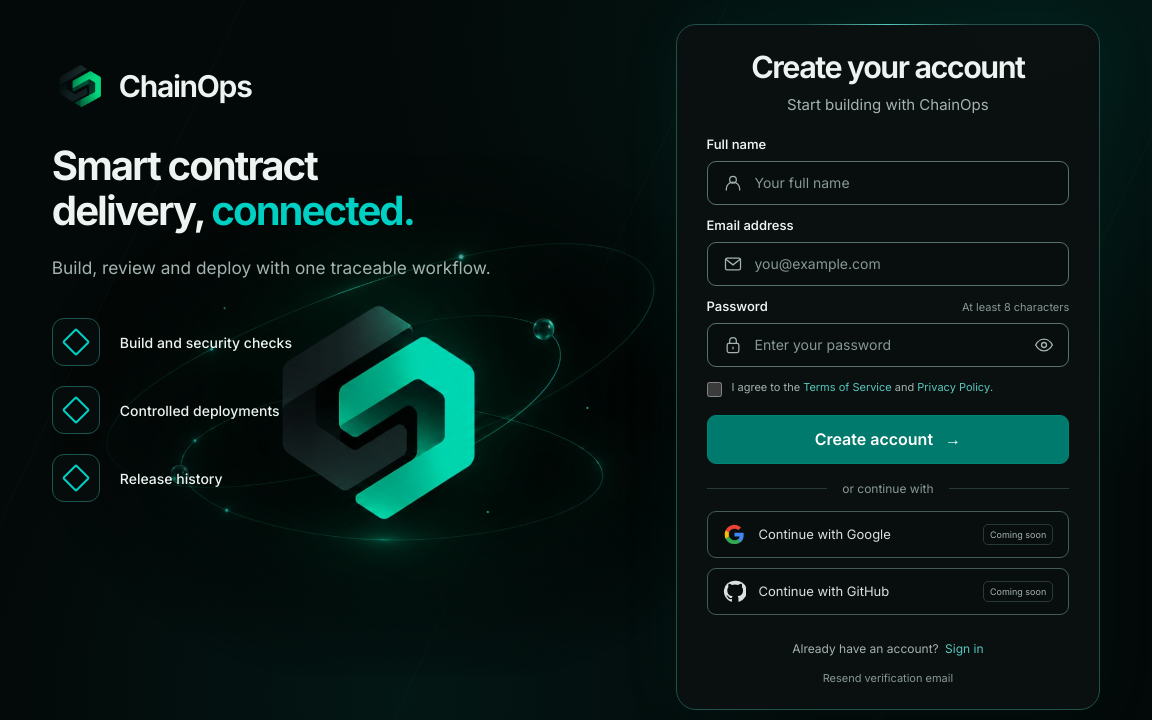
Test: rejects seven characters and accepts an eight-character registration password
The width and height of the screenshot is (1152, 720).
Type "member@example.test" into the field labelled "Email address".
click(888, 264); type("member@example.test")  # box [706,242,1069,286]
Type "long test password" into the password field labelled "Password".
click(888, 345); type("long test password")  # box [706,323,1069,367]
Type "Member" into the field labelled "Full name".
click(888, 183); type("Member")  # box [706,161,1069,205]
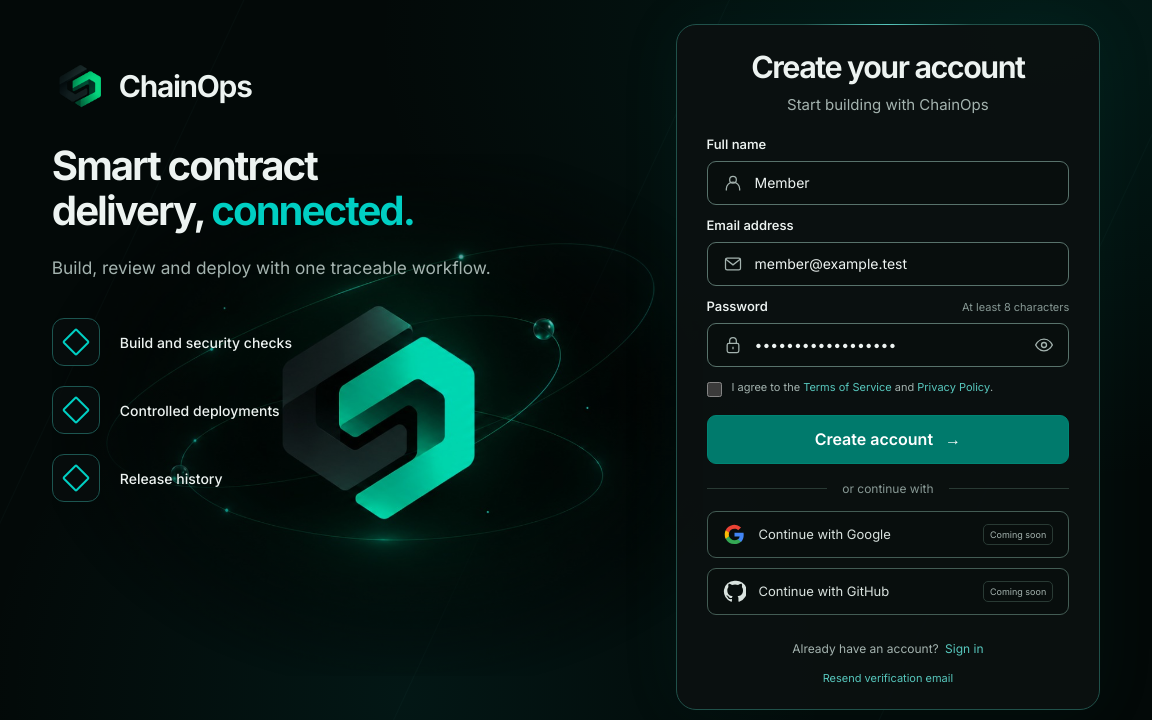
Click the checkbox.
click(714, 389)  # box [706,382,722,397]
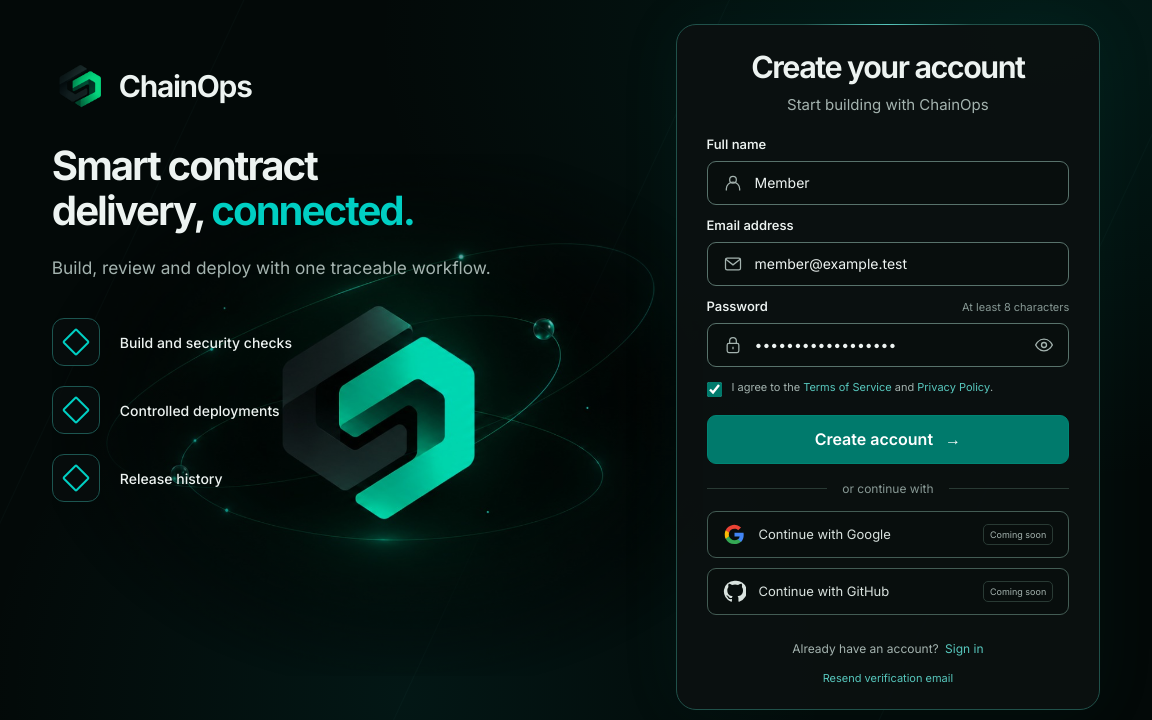
Type "1234567" into the password field labelled "Password".
click(888, 345); type("1234567")  # box [706,323,1069,367]
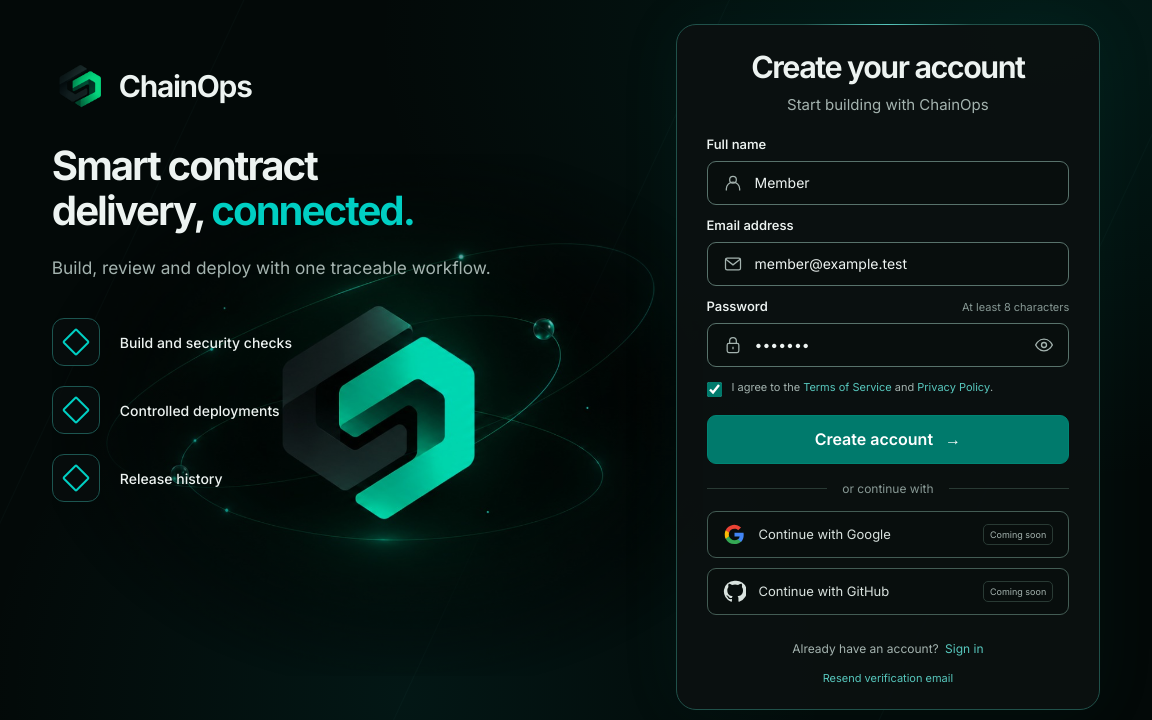
Submit the form labelled "Email address", box [706,136,1069,464]
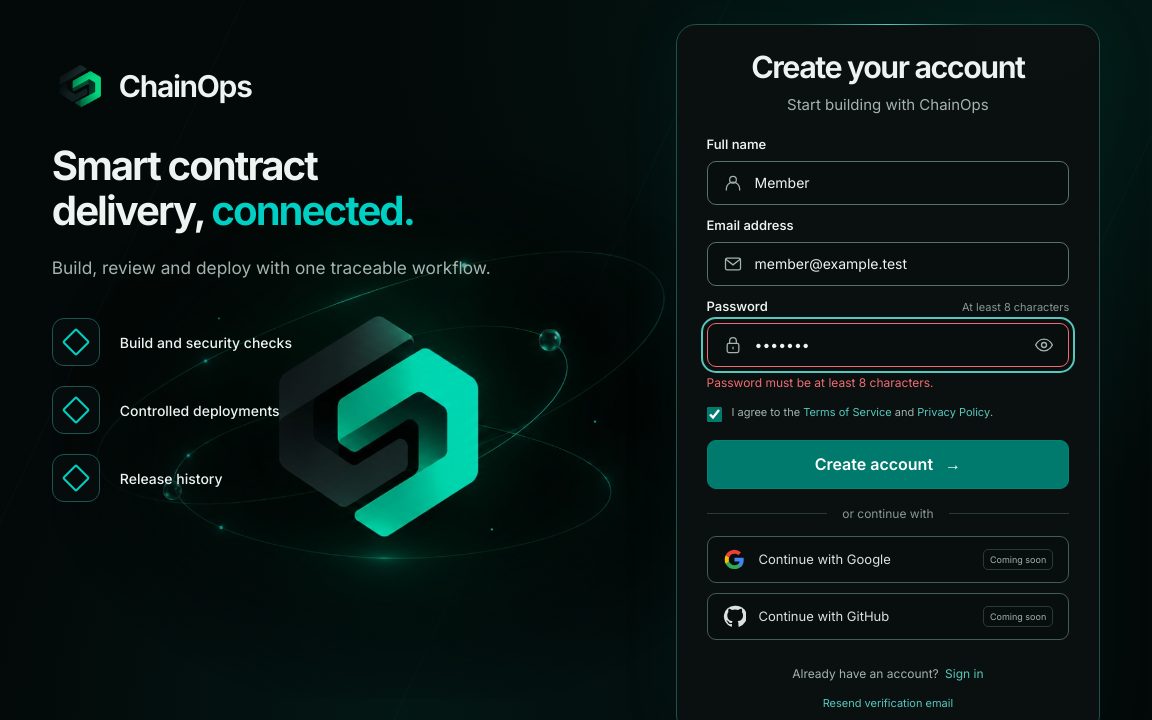
Check: the text "Password must be at least 8 characters." is shown, box [706,375,934,390]
Type "12345678" into the password field labelled "Password".
click(888, 345); type("12345678")  # box [706,323,1069,367]
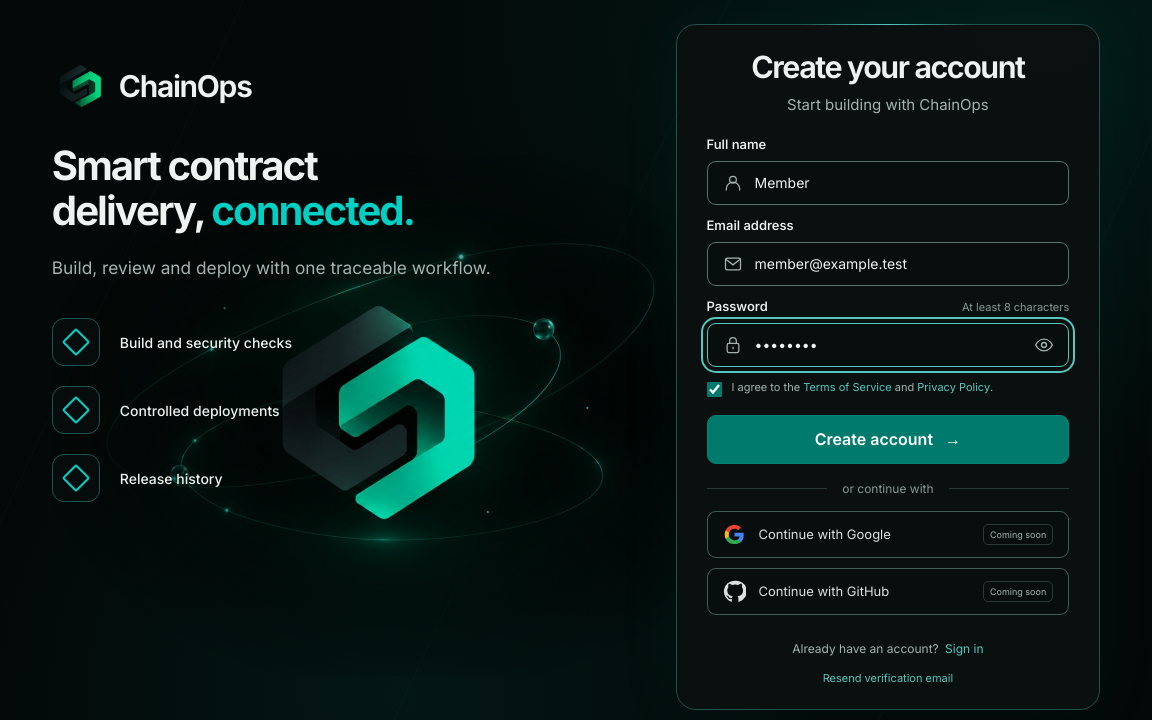
Submit the form labelled "Email address", box [706,136,1069,464]
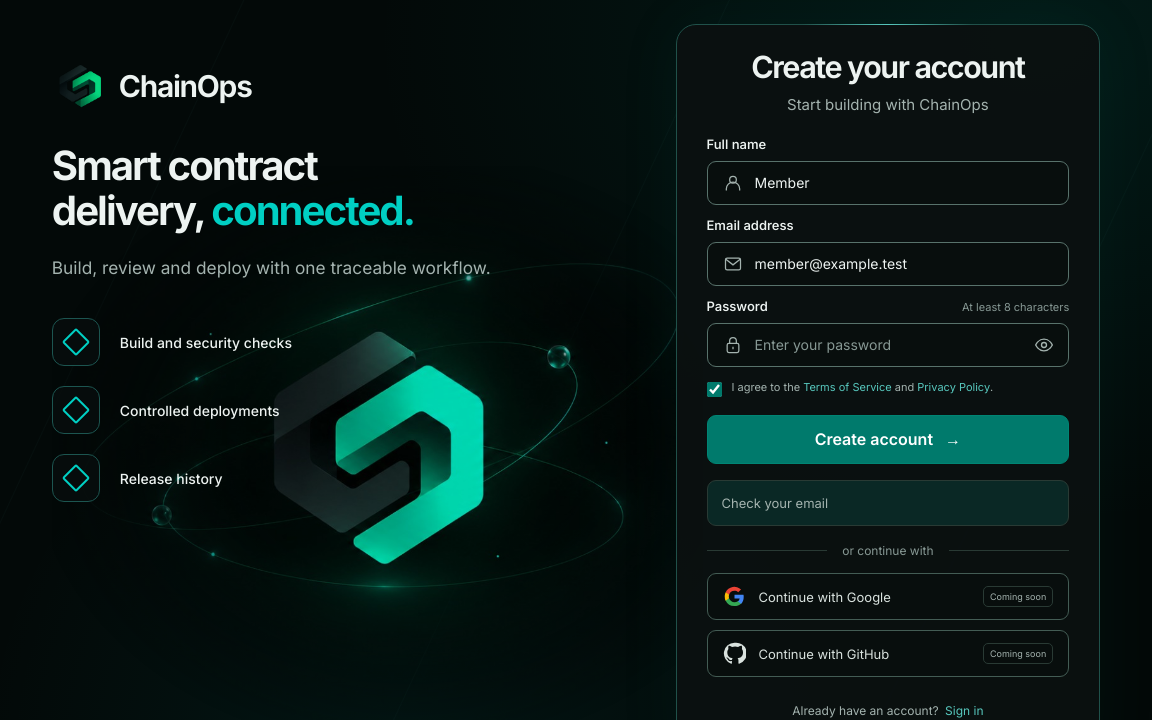
Check: the text "Check your email" is shown, box [706,480,1069,526]
